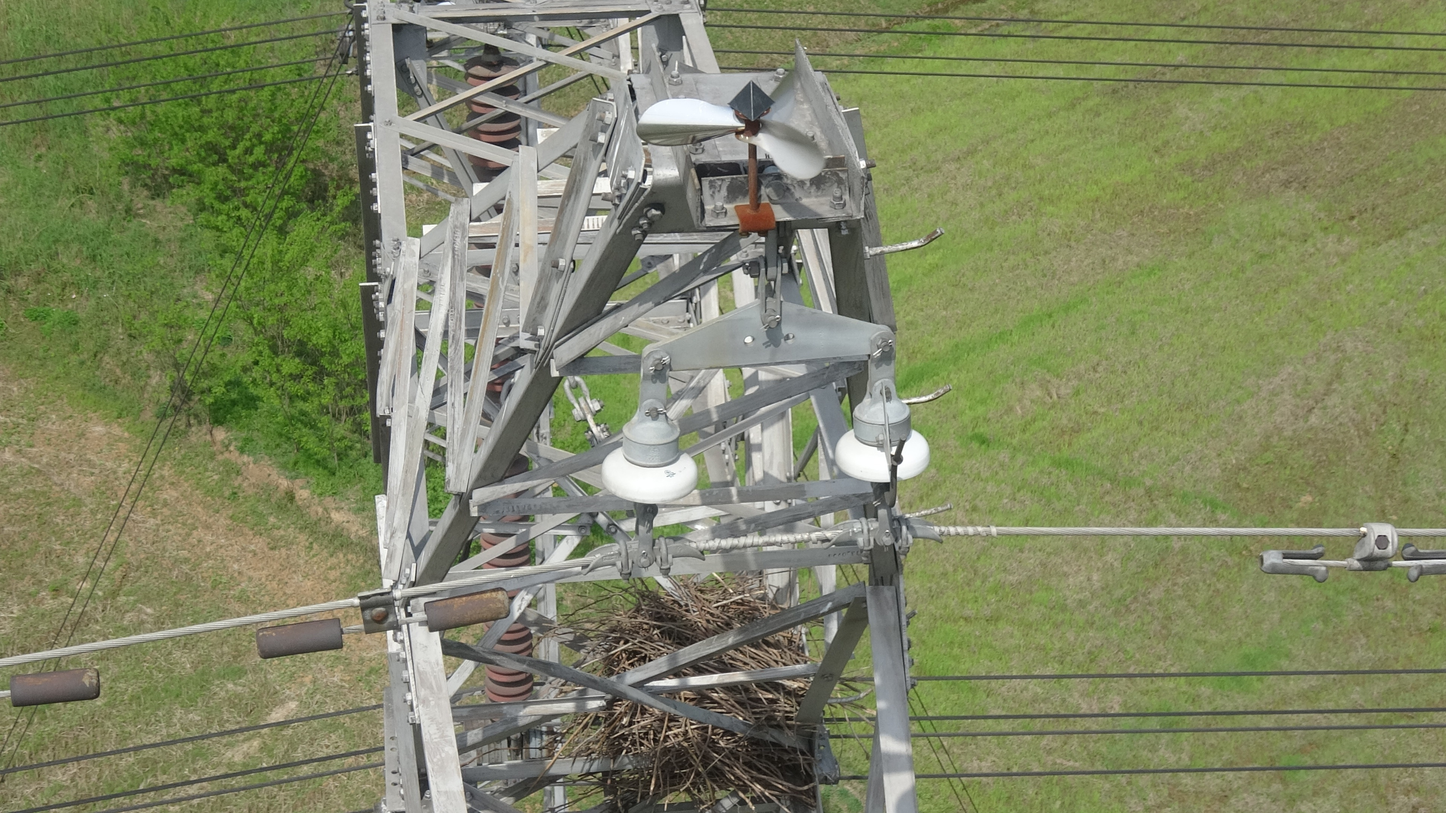damper: (1250, 513, 1446, 591)
damper_defect: (250, 582, 515, 665), (0, 662, 108, 714)
